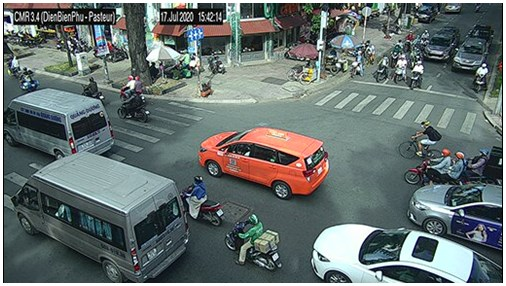xe_dap: (399, 120, 442, 159)
xe_hoi: (310, 223, 501, 283), (198, 127, 331, 200), (407, 184, 503, 249), (453, 37, 489, 71), (424, 26, 460, 60)
xe_khach: (11, 150, 190, 283), (5, 87, 113, 159)
xe_may: (224, 214, 282, 272), (179, 175, 224, 225), (404, 150, 464, 183), (117, 88, 150, 123), (81, 77, 103, 102), (120, 74, 142, 97), (18, 67, 39, 91), (473, 62, 488, 95), (410, 60, 425, 91), (393, 54, 408, 84), (375, 54, 390, 83), (350, 50, 365, 77), (8, 55, 21, 79)
